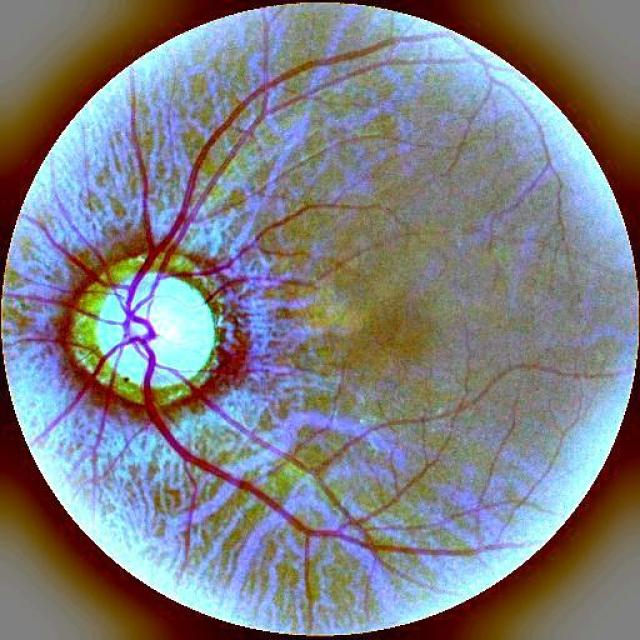Macula: (342, 278, 453, 382)
Nerves: (107, 48, 393, 569)
Optic Disk: (56, 234, 264, 420)
